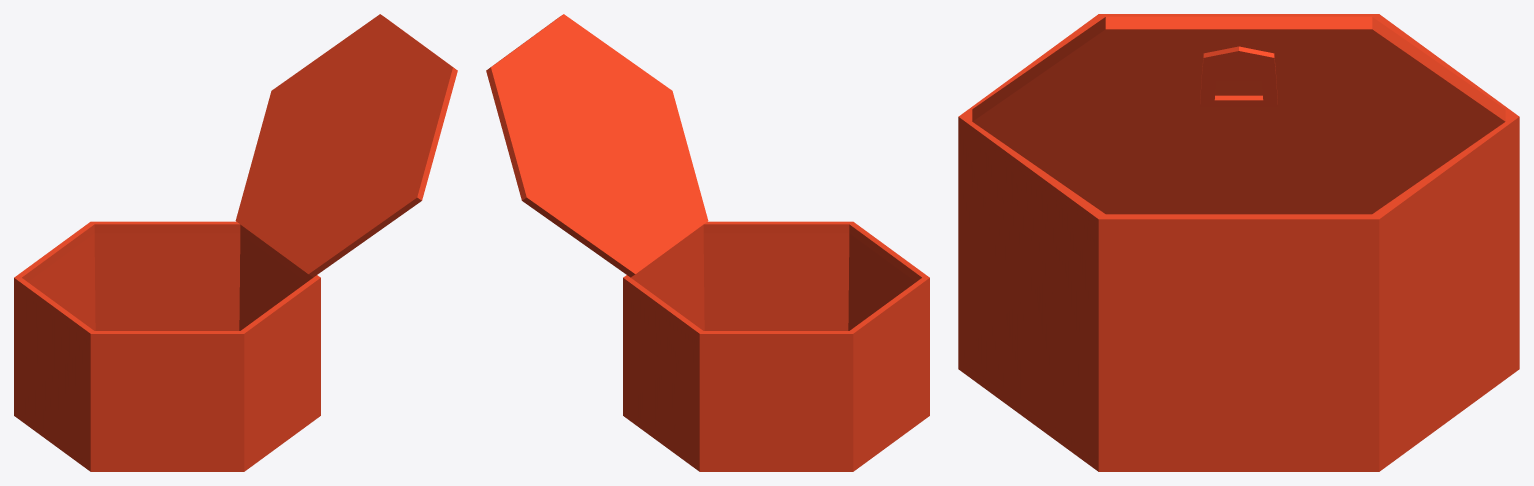
File: SM_Tin_A_City.fbx
3 renders of one model, left to right at view 1: azimuth 30°, elevation 25°; view 2: azimuth 150°, elevation 25°; view 3: azimuth 270°, elevation 25°, orthographic. The views are drawn at different scales.
Parts seen in each view (by area): view 1: SM_Tin_A_City; view 2: SM_Tin_A_City; view 3: SM_Tin_A_City.
Part boxes in pixels (left/top/right/bottom): SM_Tin_A_City: left=14, top=14, right=457, bottom=471; SM_Tin_A_City: left=486, top=14, right=929, bottom=471; SM_Tin_A_City: left=958, top=14, right=1519, bottom=471.
Size of the model in its own units: 0.1856 by 0.151 by 0.1336.
